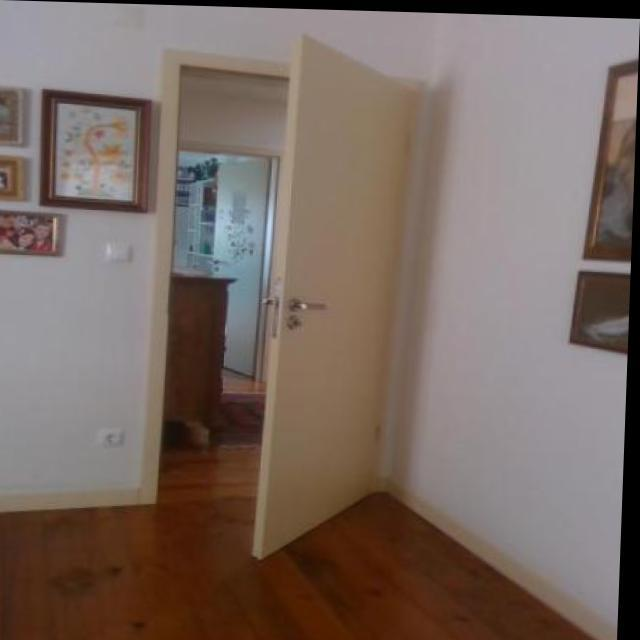door_handle: (292, 292, 340, 319)
